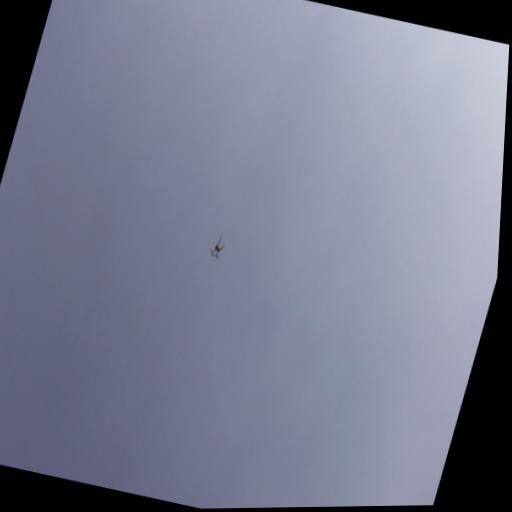drones: (207, 232, 229, 263)
